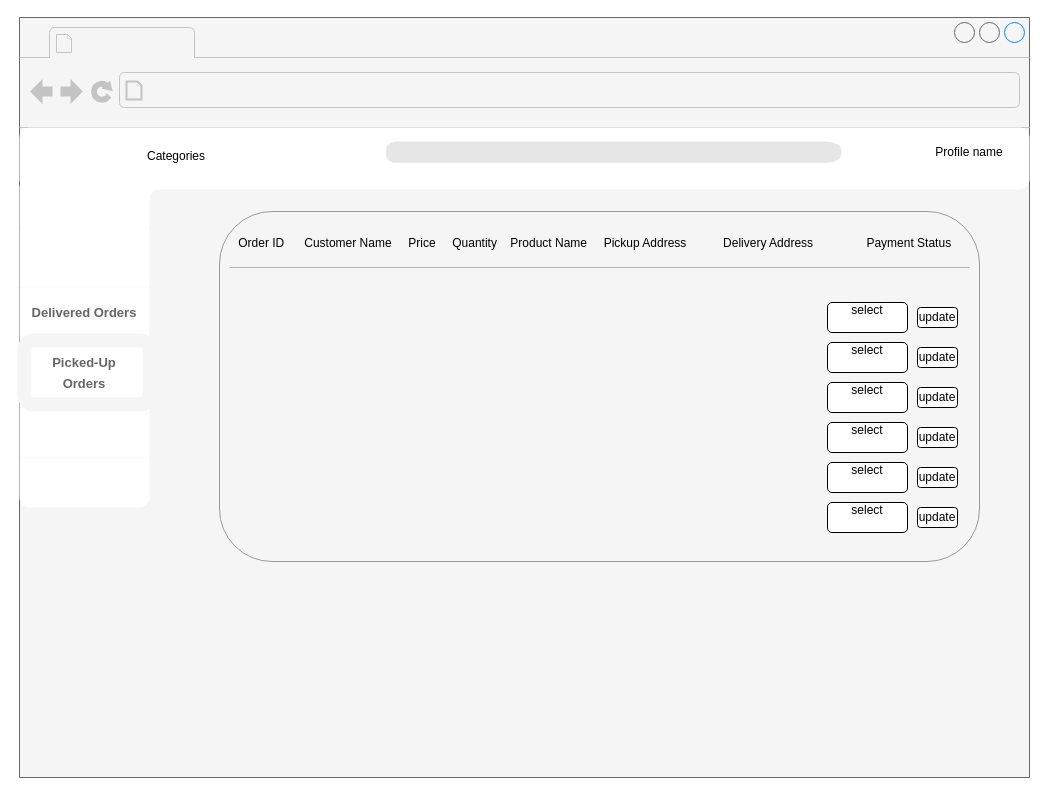
Image size: 1047x795. Some labels were removed from this diagram. Each missing label, with the centre of its shape:
"http://localhost/staff/pickeduporders.php" belongs at pixel 274 90.
"Logout" belongs at pixel 84 482.
"Manage Profile" belongs at pixel 84 202.
"Orders" belongs at pixel 84 257.
"pickedup" belongs at pixel 144 42.
"Spincycle" belongs at pixel 106 166.
